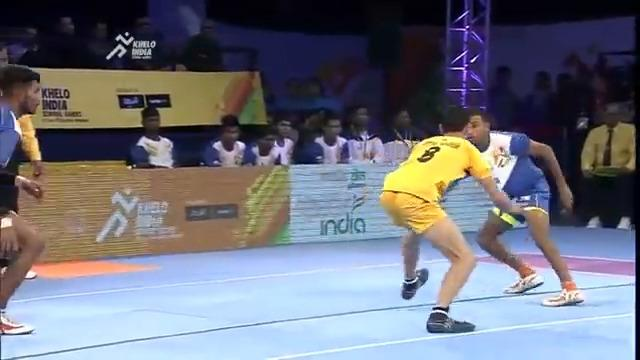Player: (461, 106, 585, 306), (0, 63, 46, 335), (125, 105, 176, 168)
Raider: (378, 105, 530, 334)
referee: (578, 101, 636, 229)
